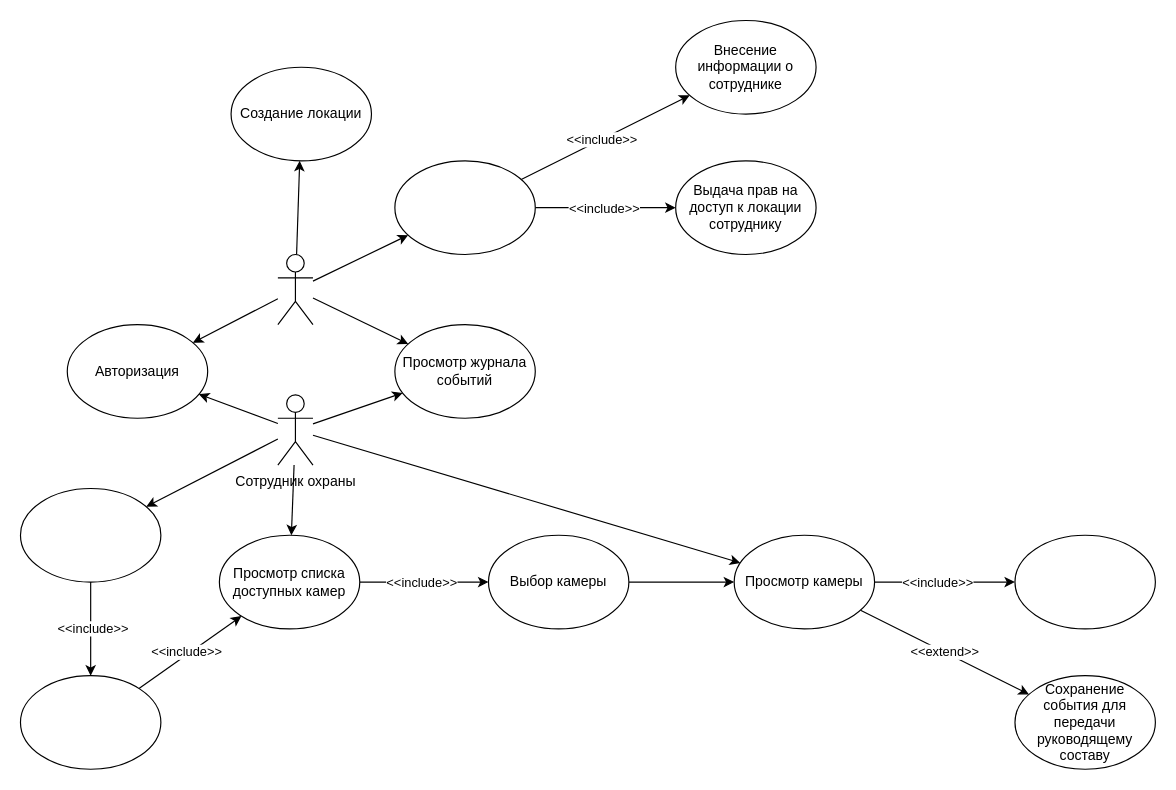
The diagram is 1176 pixels wide and 790 high, and some of its shapes have lost their labels. The centre of each missing label's shape, as x and y in pixels:
Администратор: the point at 295,289
Выбор доступной локации: the point at 90,722
Просмотр списка доступных локаций: the point at 90,534
Просмотр списка обнаруженных персон: the point at 1084,581
Регистрация сотрудника: the point at 464,207
